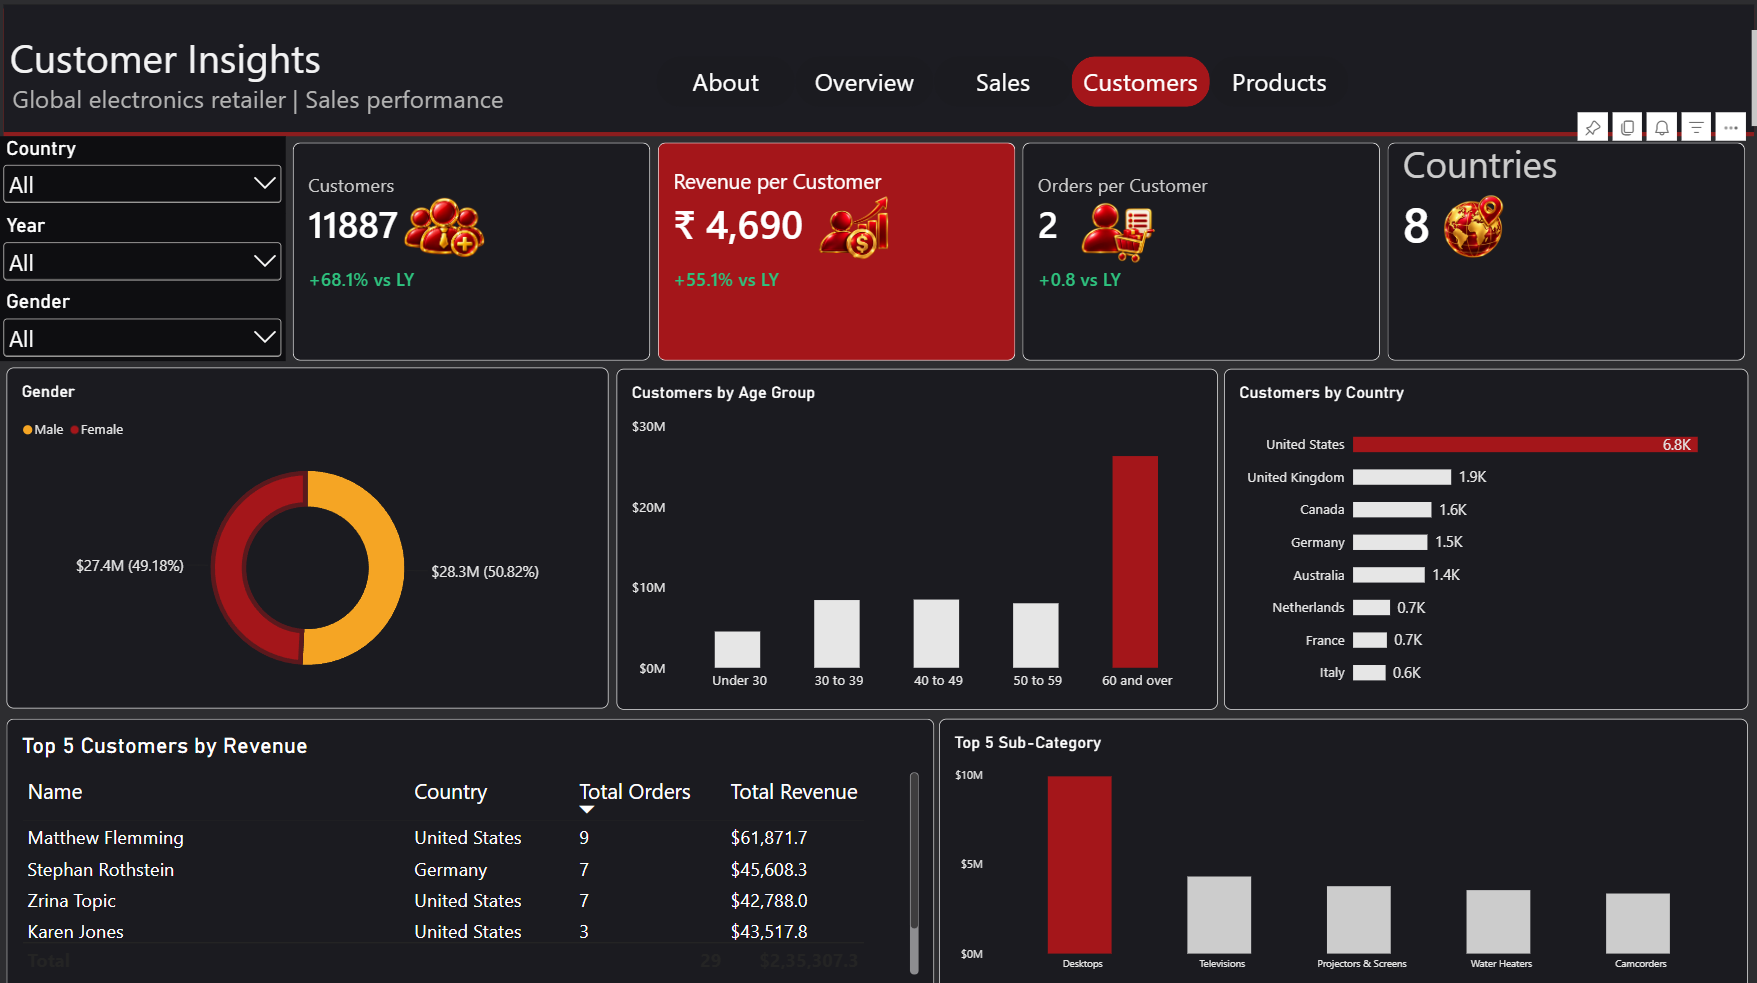

This screenshot's page, from the dashboard's own definition file:
{"tool":"powerbi","page":{"name":"Customers","canvas":[1920,1080],"ordinal":3},"visuals":[{"type":"shape","box":[0,0,1919.6,149.1],"z":0},{"type":"textbox","box":[0,33.1,1919.6,116],"z":1000},{"type":"actionButton","box":[717.8,60.7,150.9,55.2],"z":2000},{"type":"actionButton","box":[868.7,60.7,150.9,55.2],"z":3000},{"type":"actionButton","box":[1019.6,60.7,150.9,55.2],"z":4000},{"type":"actionButton","box":[1170.6,60.7,150.9,55.2],"z":5000},{"type":"actionButton","box":[1321.5,60.7,150.9,55.2],"z":6000},{"type":"slicer","fields":{"Values":["Customers.Country"]},"box":[0,149.1,312.9,84.7],"z":8000},{"type":"slicer","title":"Year","fields":{"Values":["Dim_Date.Year"]},"box":[0,233.7,312.9,82.8],"z":9000},{"type":"slicer","fields":{"Values":["Customers.Gender"]},"box":[0,316.6,312.9,77.3],"z":10000},{"type":"cardVisual","fields":{"Data":["Sales.Total Customers","Sales.Revenue per Customer","Sales.Orders per Customer","Customers.Countries"]},"box":[321,156,1586,238],"z":11000},{"type":"image","box":[436.2,211.7,99.4,73.6],"z":12000},{"type":"image","box":[881.6,211.7,99.4,73.6],"z":13000},{"type":"image","box":[1170.6,217.2,99.4,73.6],"z":14000},{"type":"image","box":[1558.9,211.7,99.4,73.6],"z":15000},{"type":"donutChart","title":"Gender","fields":{"Category":["Customers.Gender"],"Y":["Sales.Total Revenue"]},"box":[8,401,657.1,371.8],"z":16000},{"type":"columnChart","title":"Customers by Age Group","fields":{"Category":["Customers.Age Group"],"Y":["Sales.Total Revenue"]},"box":[674,402,656,372],"z":17000},{"type":"barChart","title":"Customers by Country","fields":{"Category":["Customers.Country"],"Y":["CountNonNull(Customers.CustomerKey)"]},"box":[1336,402,572,372],"z":18000},{"type":"tableEx","title":"Top 5 Customers by Revenue","fields":{"Values":["Customers.Name","Customers.Country","Sales.Total Orders","Sales.Total Revenue"]},"box":[8,784,1012,296],"z":19000},{"type":"columnChart","title":"Top 5 Sub-Category","fields":{"Category":["Products.Subcategory"],"Y":["Sales.Total Revenue"]},"box":[1026,784,882,296],"z":20000}]}

Visuals, with their boxes on the page's 1920x1080 design canvas (x1, y1, x2, y2). These are canvas units, not pixel positions in the 1757x983 screenshot, which may show the page scaled, cropped or inside an application window:
shape: region(0, 0, 1920, 149)
textbox: region(0, 33, 1920, 149)
actionButton: region(718, 61, 869, 116)
actionButton: region(869, 61, 1020, 116)
actionButton: region(1020, 61, 1170, 116)
actionButton: region(1171, 61, 1322, 116)
actionButton: region(1322, 61, 1472, 116)
slicer - Customers.Country: region(0, 149, 313, 234)
"Year" slicer: region(0, 234, 313, 316)
slicer - Customers.Gender: region(0, 317, 313, 394)
cardVisual - Sales.Total Customers x Sales.Revenue per Customer: region(321, 156, 1907, 394)
image: region(436, 212, 536, 285)
image: region(882, 212, 981, 285)
image: region(1171, 217, 1270, 291)
image: region(1559, 212, 1658, 285)
"Gender" donutChart: region(8, 401, 665, 773)
"Customers by Age Group" columnChart: region(674, 402, 1330, 774)
"Customers by Country" barChart: region(1336, 402, 1908, 774)
"Top 5 Customers by Revenue" tableEx: region(8, 784, 1020, 1080)
"Top 5 Sub-Category" columnChart: region(1026, 784, 1908, 1080)
